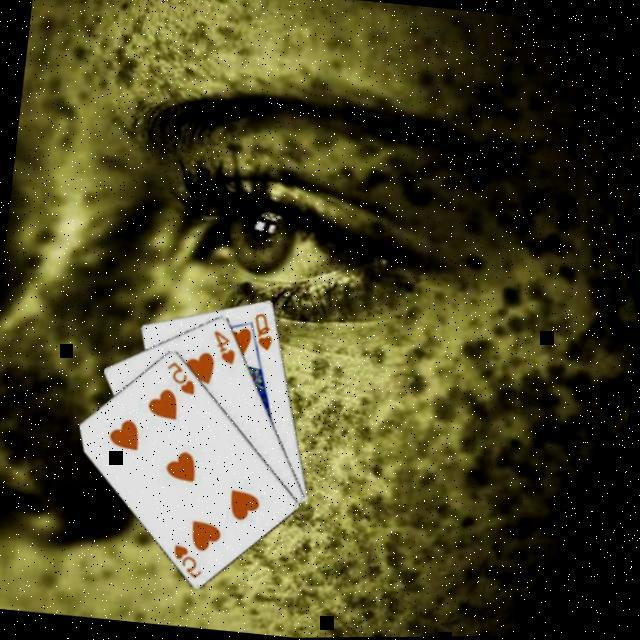4H: (210, 326, 242, 366)
5H: (170, 539, 210, 581), (163, 356, 203, 396)
QH: (250, 308, 280, 352)
